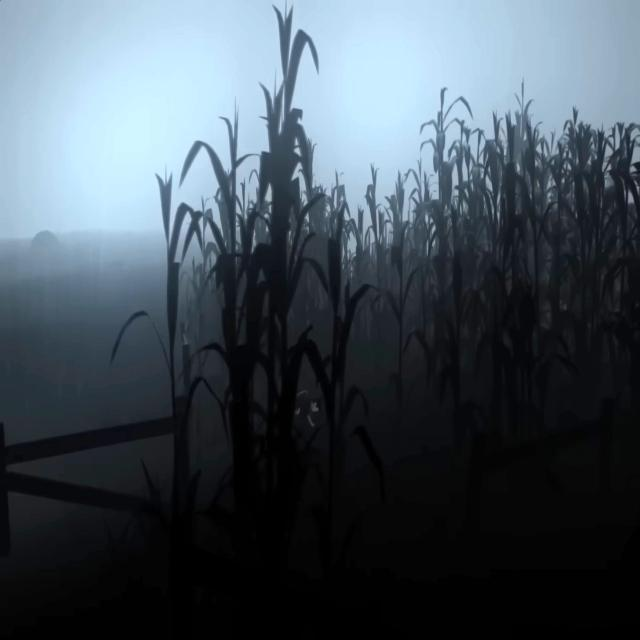boy: (294, 391, 320, 426)
